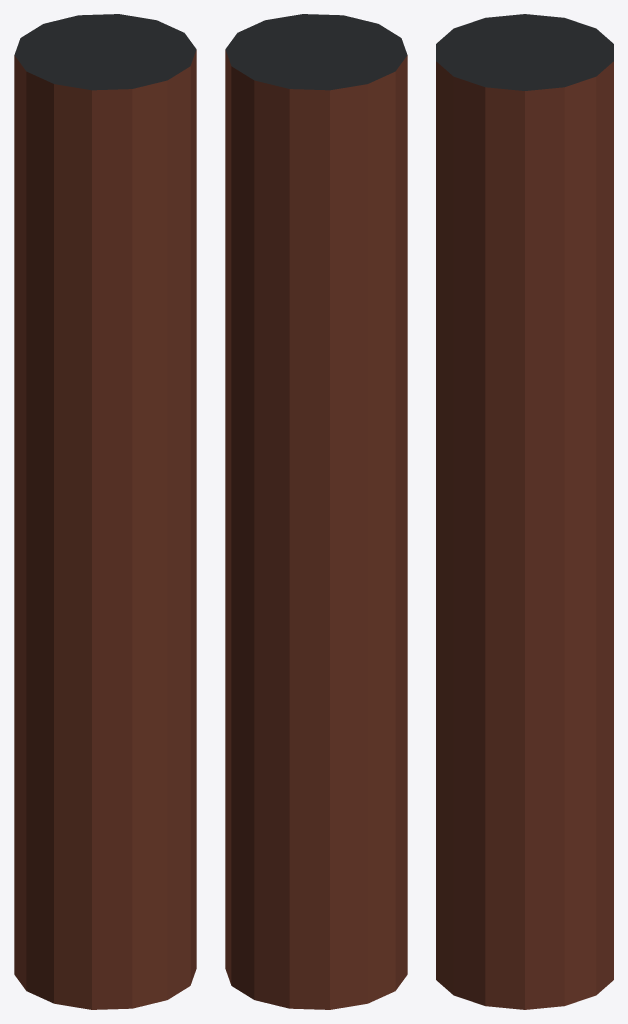
Rendered from 0287-Buildings-shell-pieces-roof-plant-emitRoofPlant-42-triangles-0-81-x-4-50-x-0-79-.glb.
The picture shows the model from 3 angles, left to right: view 1: azimuth 30°, elevation 25°; view 2: azimuth 150°, elevation 25°; view 3: azimuth 270°, elevation 25°; orthographic projection.
Visible parts, largest first — view 1: emitRoofPlant; view 2: emitRoofPlant; view 3: emitRoofPlant.
Boxes of the visible parts, x1,y1,x2,y2 form: emitRoofPlant: (14,14,196,1009); emitRoofPlant: (225,14,407,1009); emitRoofPlant: (436,14,613,1009).
Bounding box in the file's own units: 0.81 × 4.5 × 0.7897.
